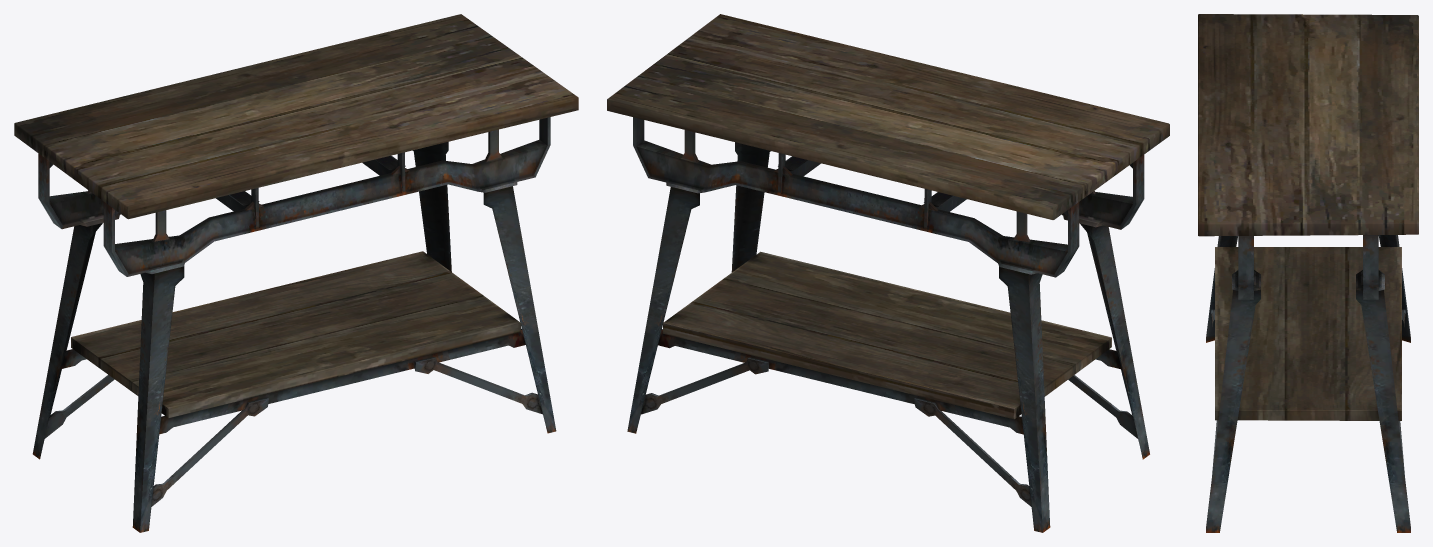
File: metaltable.fbx
The picture shows the model from 3 angles, left to right: view 1: azimuth 30°, elevation 25°; view 2: azimuth 150°, elevation 25°; view 3: azimuth 270°, elevation 25°; orthographic projection. The views are drawn at different scales.
Parts seen in each view (by area): view 1: metal_table_01; view 2: metal_table_01; view 3: metal_table_01.
Boxes of the visible parts, x1,y1,x2,y2 form: metal_table_01: [14, 14, 578, 532]; metal_table_01: [607, 14, 1169, 532]; metal_table_01: [1198, 14, 1418, 532].
Size of the model in its own units: 120 by 84.81 by 53.41.
Materials: 1 (1 with a texture image).
